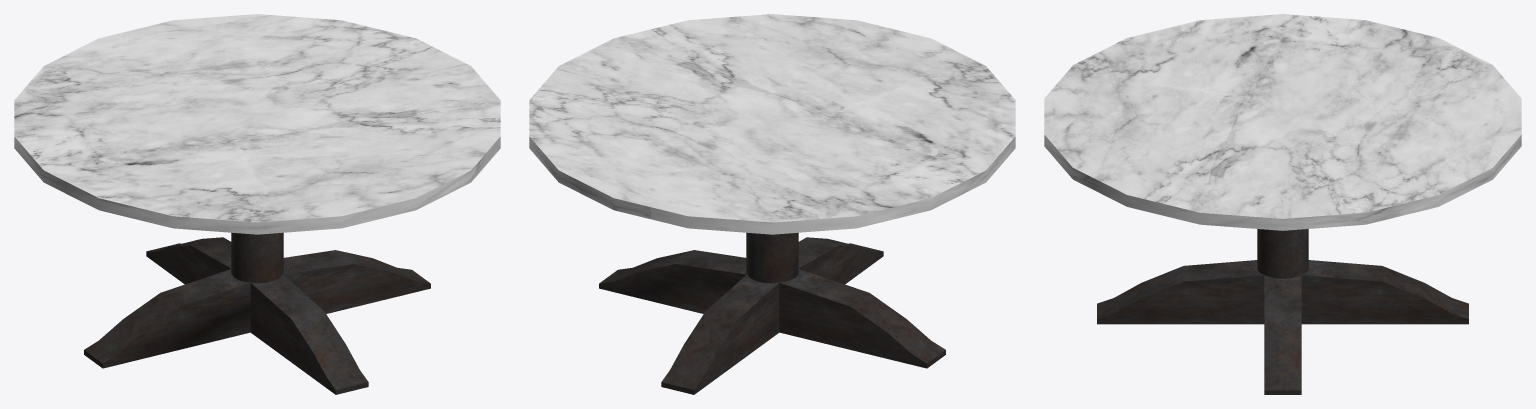
File: Table.FBX
3 views of the same model, side by side, from view 1: azimuth 30°, elevation 25°; view 2: azimuth 150°, elevation 25°; view 3: azimuth 270°, elevation 25° (orthographic).
Visible parts, largest first — view 1: Cylinder017, Box005, Box007, Cylinder018; view 2: Cylinder017, Box007, Box005, Cylinder018; view 3: Cylinder017, Box007, Box005, Cylinder018.
Boxes of the visible parts, box(x1,y1,x2,y2) form: Cylinder017: box(14, 14, 500, 234); Box005: box(84, 269, 368, 394); Box007: box(146, 237, 430, 313); Cylinder018: box(231, 232, 283, 283); Cylinder017: box(529, 14, 1015, 234); Box007: box(599, 250, 779, 394); Box005: box(779, 237, 945, 368); Cylinder018: box(746, 232, 798, 283); Cylinder017: box(1044, 14, 1521, 230); Box007: box(1264, 260, 1468, 394); Box005: box(1097, 260, 1264, 324); Cylinder018: box(1257, 229, 1308, 278).
Size of the model in its own units: 50 by 22.73 by 49.24.
Materials: 2 (2 with a texture image).
